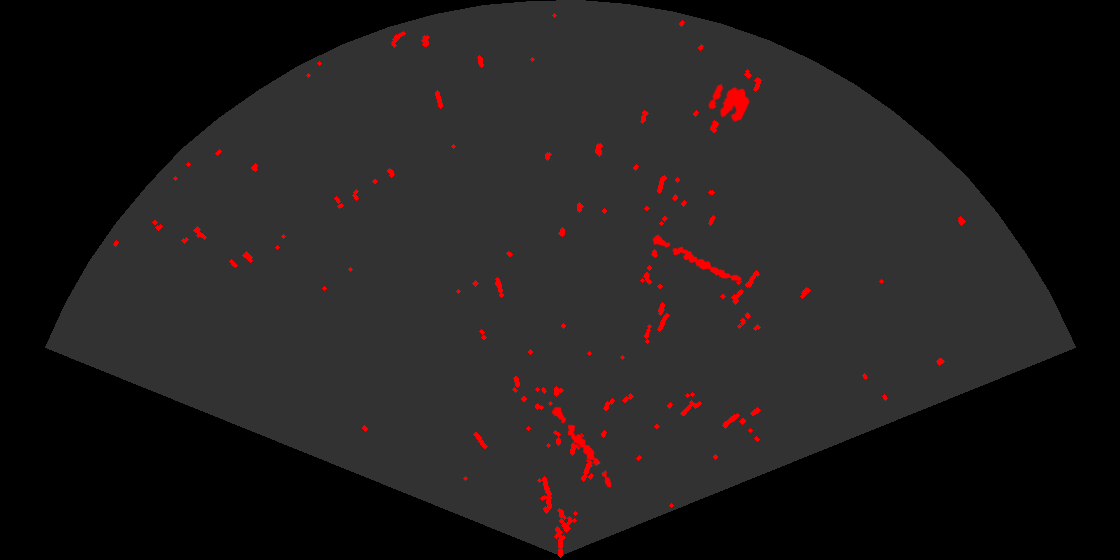ball: (706, 82, 752, 124)
chain: (550, 405, 613, 489), (651, 233, 743, 283)
